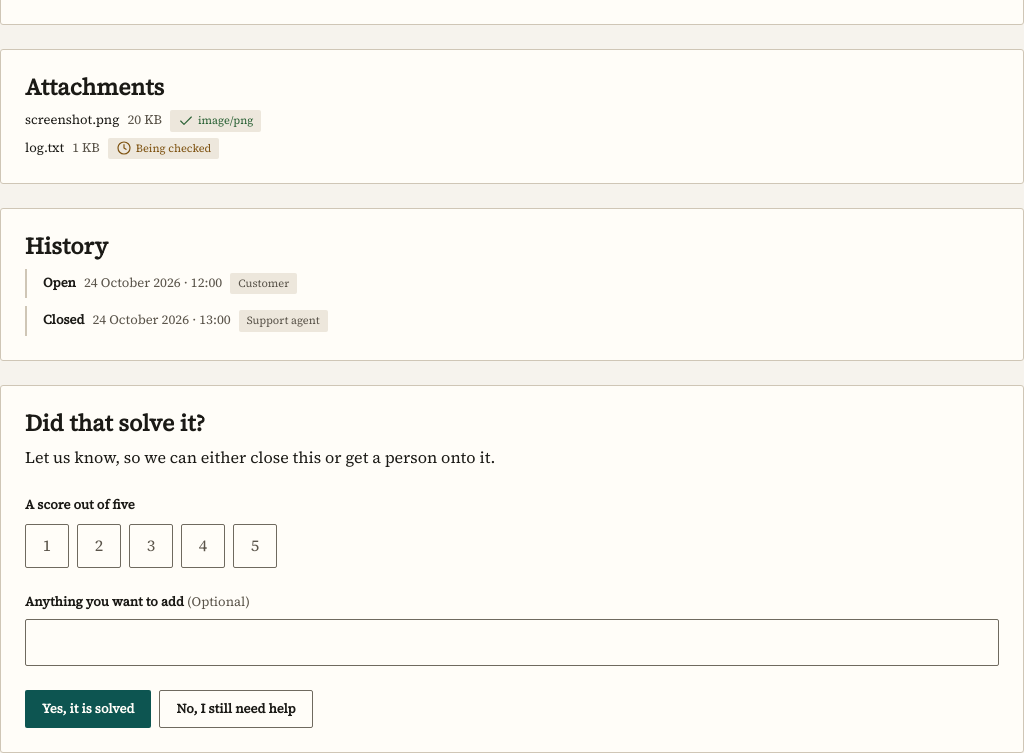
Scenario: the ticket detail › reports the escalation the server actually performed
(page scrolled)
Click the button "No, I still need help".
click(236, 709)  # box [160,690,313,728]
(page scrolled)
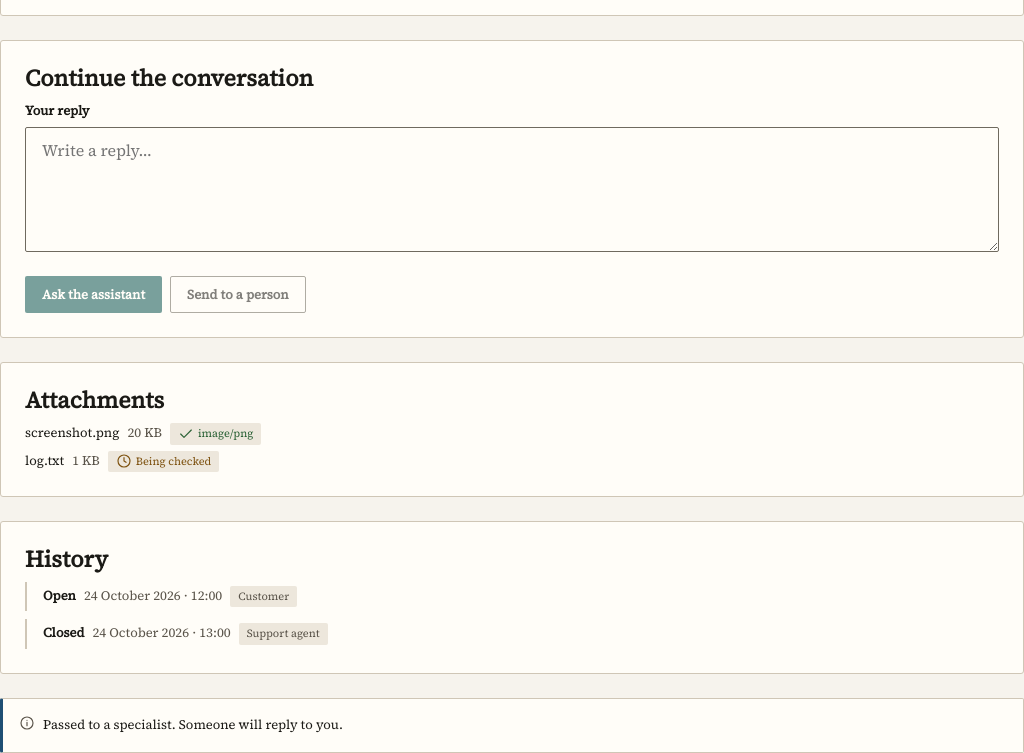
Result: the text "Passed to a specialist. Someone will reply to you." is shown at [43,715,343,736]
